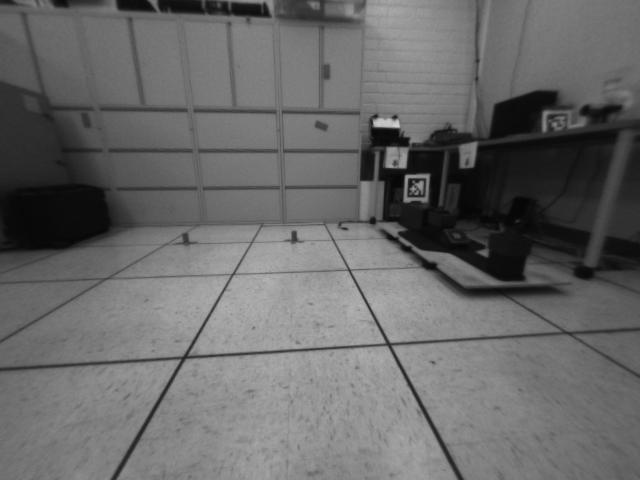X: (174, 231, 200, 247), (283, 230, 307, 246)
